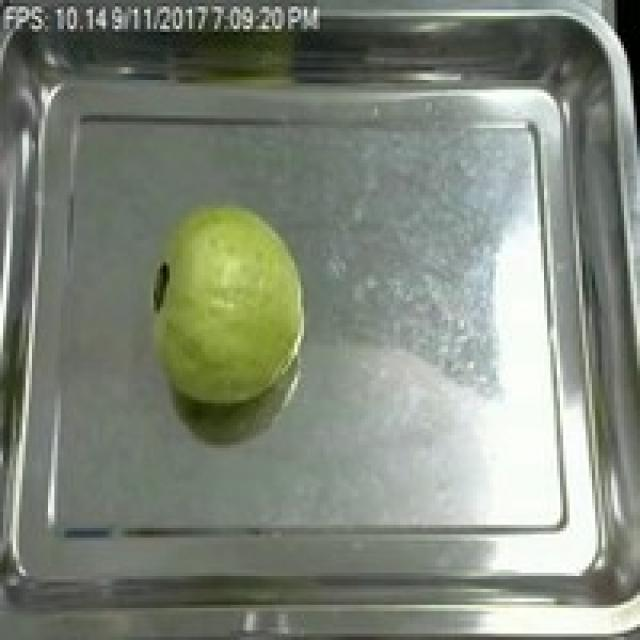Fruit: (141, 192, 317, 416)
